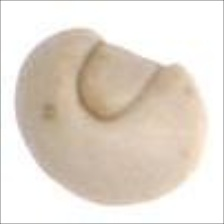L5: (74, 39, 162, 125)
L6: (12, 26, 209, 209)
